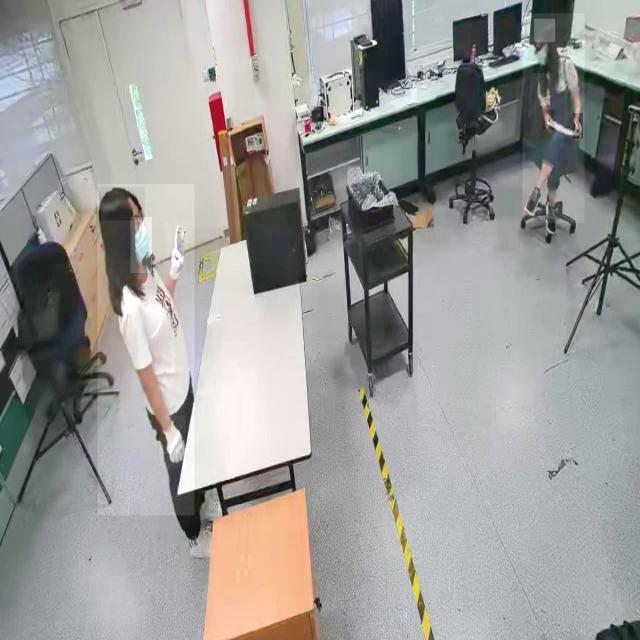face_mask: (130, 217, 152, 273), (532, 44, 552, 74)
hand_glove: (165, 222, 187, 286), (160, 415, 186, 469)
hand_noglove: (543, 109, 555, 131), (573, 113, 583, 139)
head_nohelmet: (99, 187, 145, 221), (533, 18, 555, 42)
person: (97, 184, 195, 516), (522, 13, 584, 224)
shoes: (185, 524, 215, 567), (522, 181, 544, 220), (541, 196, 560, 239)
